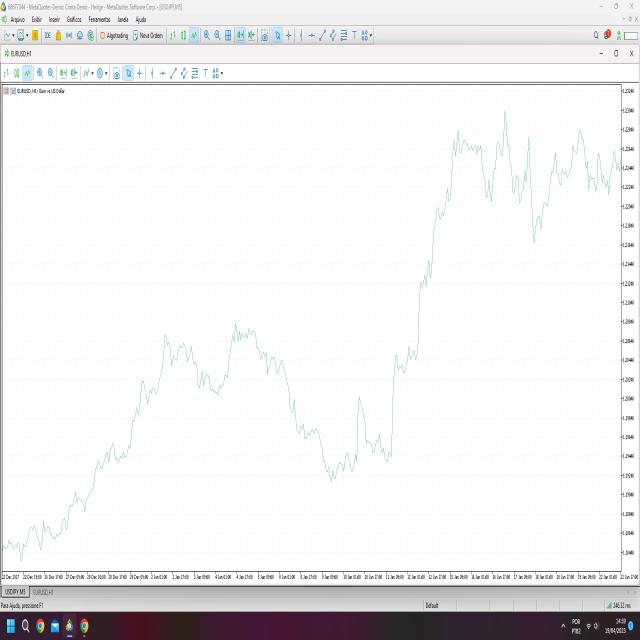bandeira_alta: (384, 323, 422, 479), (449, 125, 481, 214)
